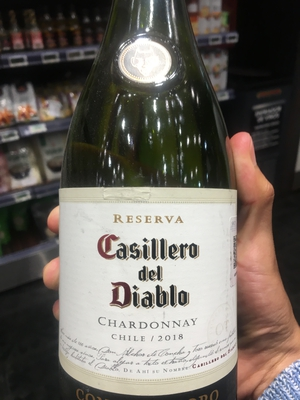casillero del diablo chardonnay: (56, 14, 237, 400)
